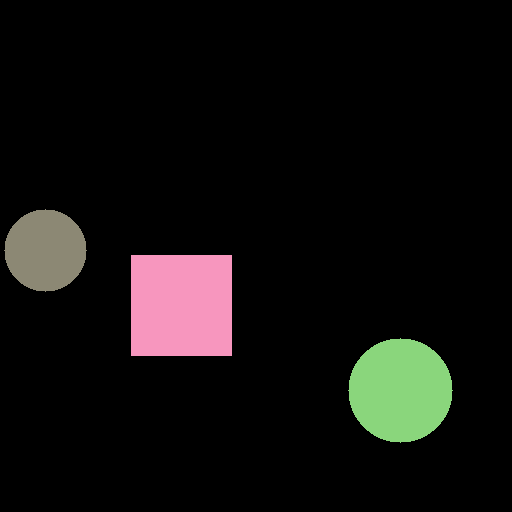circle: (348, 338, 452, 442), (4, 209, 86, 291)
square: (131, 255, 231, 355)
